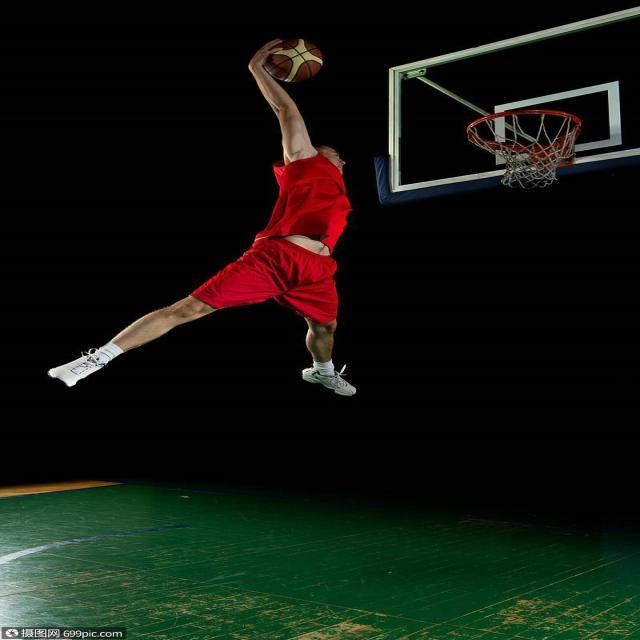rim: (264, 41, 323, 82)
